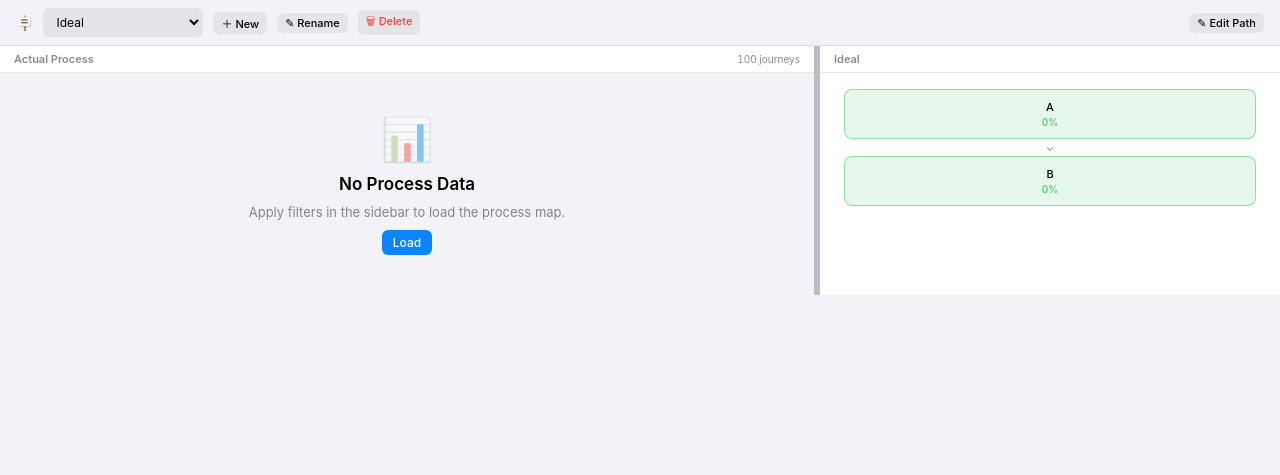
Test: HappyPathView editor › adds a split (rejoinable branches) into the sequence
The image size is (1280, 475).
Click the button "✎ Edit Path".
click(1227, 22)  # box 1189,12 -> 1264,32
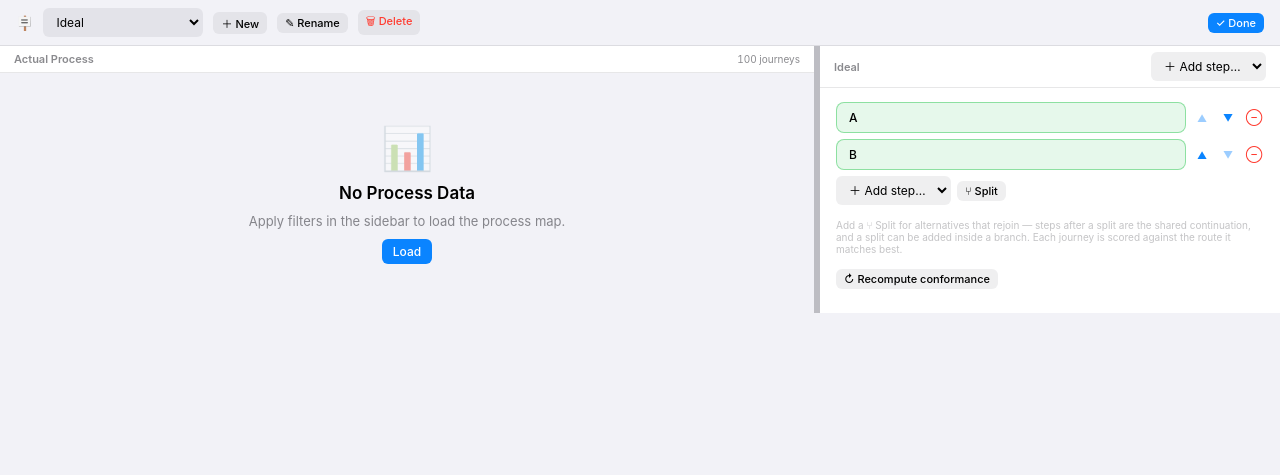
Expected: the text "A" is shown, 849,110 -> 858,125
Expected: the text "B" is shown, 849,147 -> 857,162
Click the button "⑂ Split".
click(981, 190)  # box 957,180 -> 1006,200
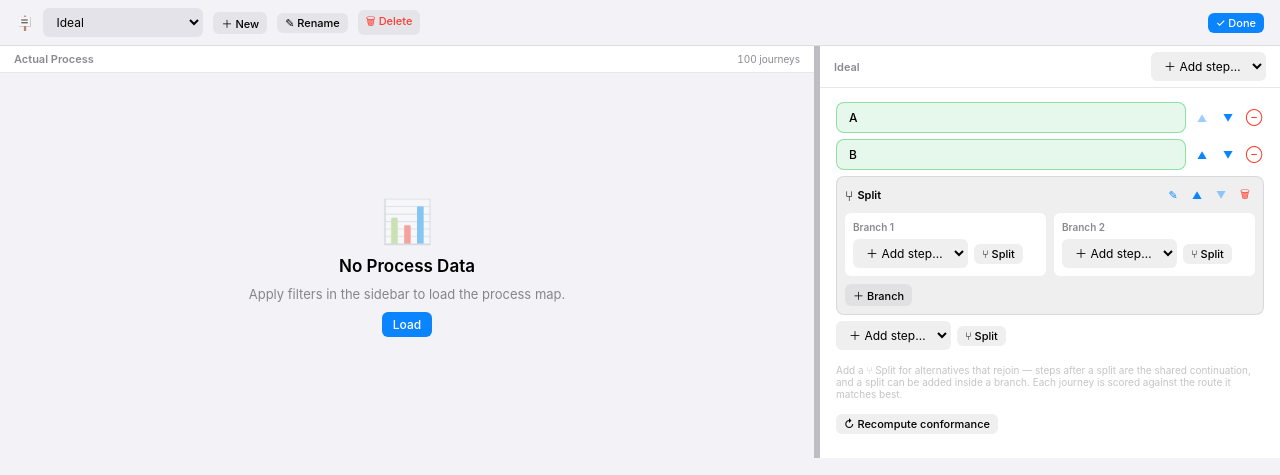
Expected: the text "Branch 1" is shown, 853,221 -> 894,233
Expected: the text "Branch 2" is shown, 1062,221 -> 1105,233
